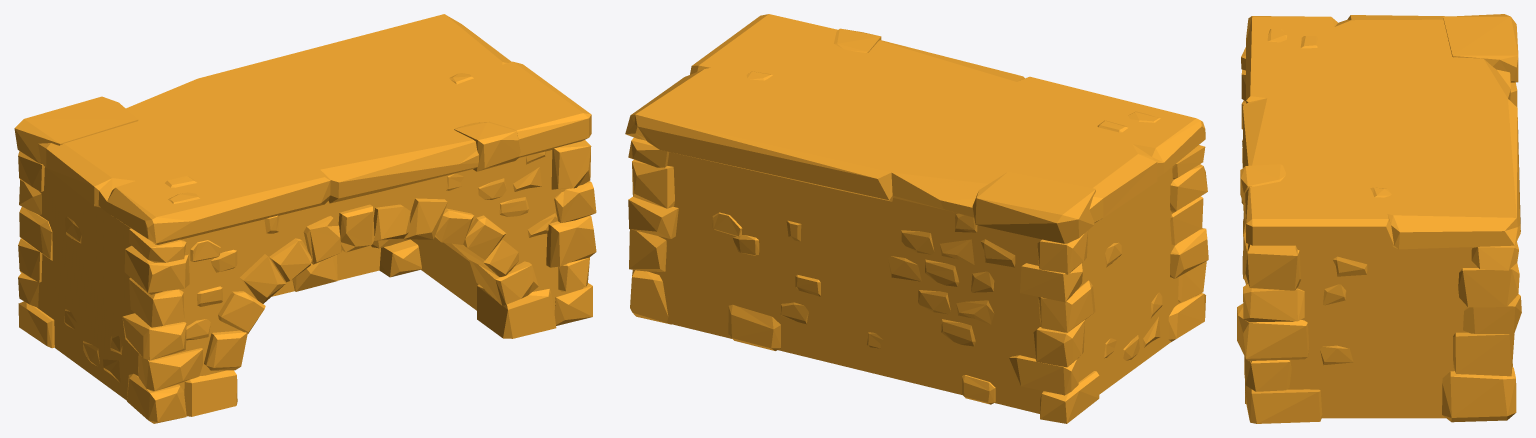
File: SM_Table_Stone_Alchemy.fbx
3 views of the same model, side by side, from view 1: azimuth 30°, elevation 25°; view 2: azimuth 150°, elevation 25°; view 3: azimuth 270°, elevation 25° (orthographic). The views are drawn at different scales.
Parts seen in each view (by area): view 1: table-stone-alchemy; view 2: table-stone-alchemy; view 3: table-stone-alchemy.
Part boxes in pixels (x1,y1,x2,y2): table-stone-alchemy: (14, 14, 596, 423); table-stone-alchemy: (625, 14, 1208, 423); table-stone-alchemy: (1237, 14, 1521, 423).
Bounding box in the file's own units: 1.84 × 0.8144 × 1.04.
